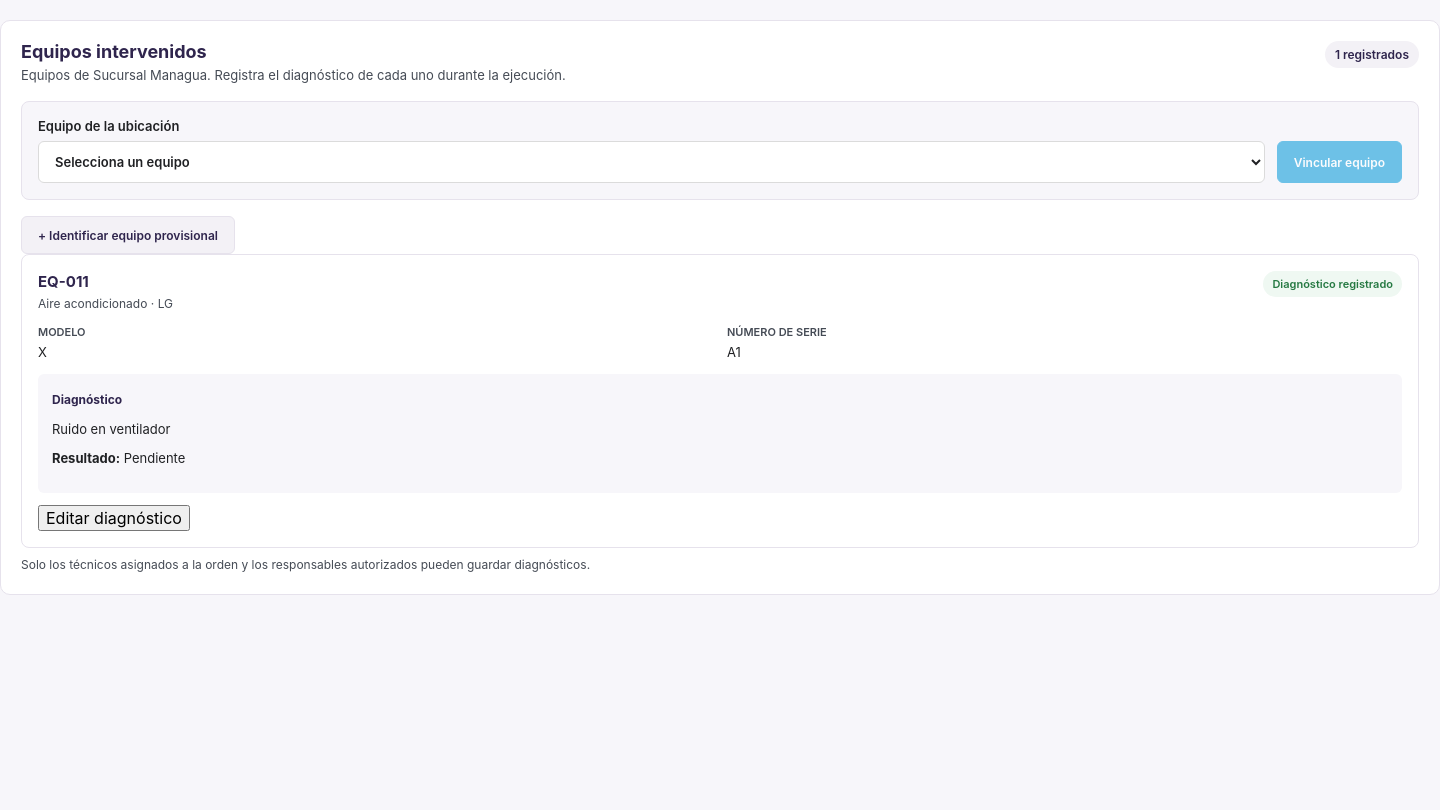
Scenario: Equipos de orden según Figma › muestra los diagnósticos existentes y permite modificarlos
Expected: the text "Ruido en ventilador" is shown, [52,421,170,437]
What coordinates should you click on to do the following:
click the button "Editar diagnóstico"
I would click on:
 (114, 518)
Its box is [38,505,190,531].
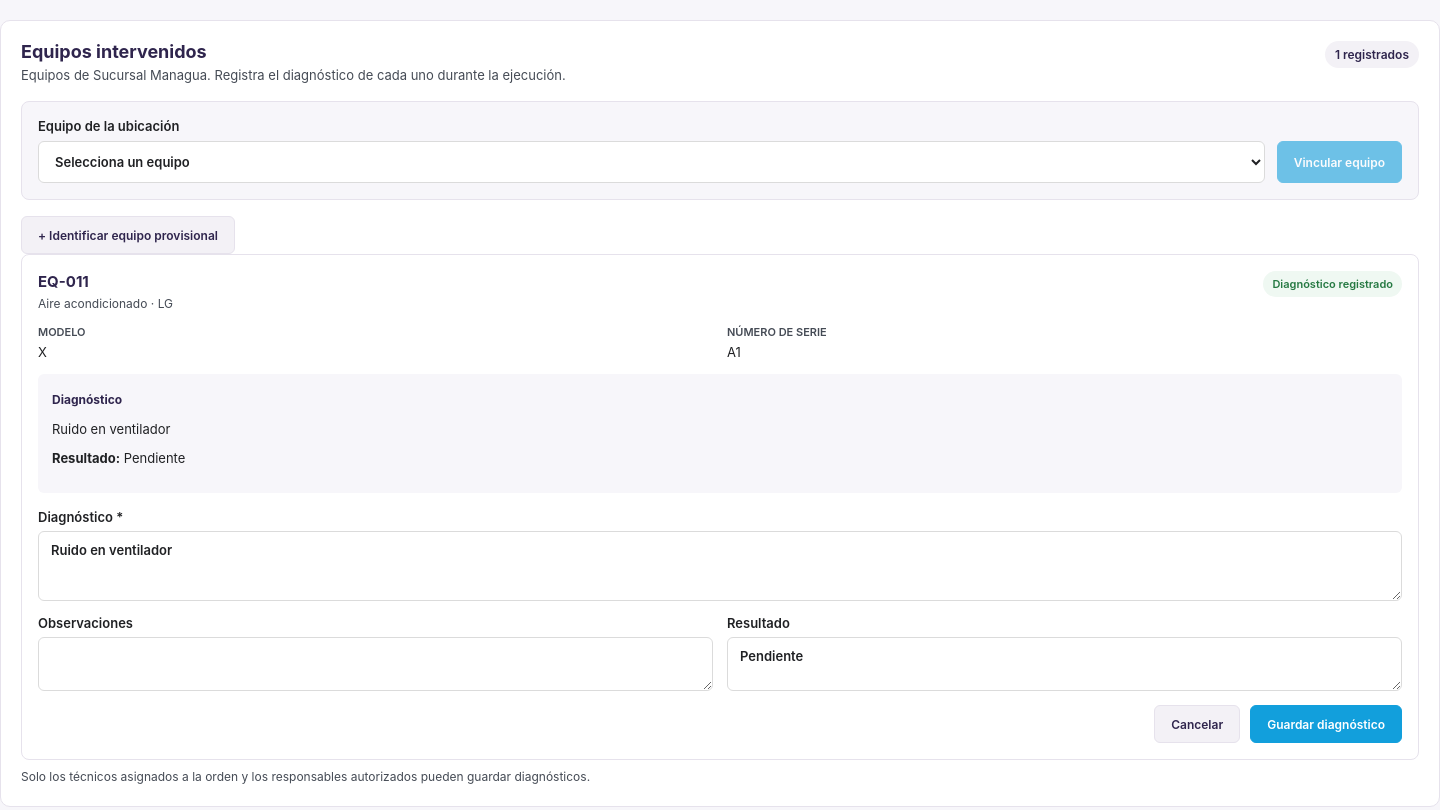
Result: the text box labelled "Diagnóstico" holds "Ruido en ventilador" at [38,531,1402,601]
